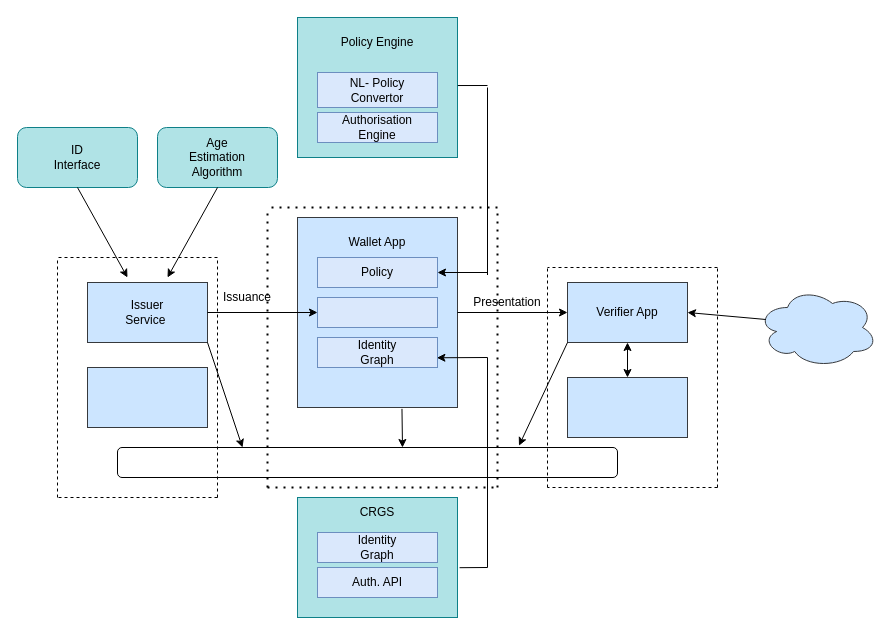
This 895x635 diagram has some shape labels left out. The shapes that lost their labels are listed below. From the top down, each one's box as (x1, y1, x2, y2) in pixels, then its label:
(316, 296, 438, 328): Age Token
(756, 286, 878, 368): Public Trust Registry
(86, 366, 208, 428): Key Manager
(566, 376, 688, 438): SD-JWT Verification Engine
(116, 446, 618, 478): Audit Log (Database)
